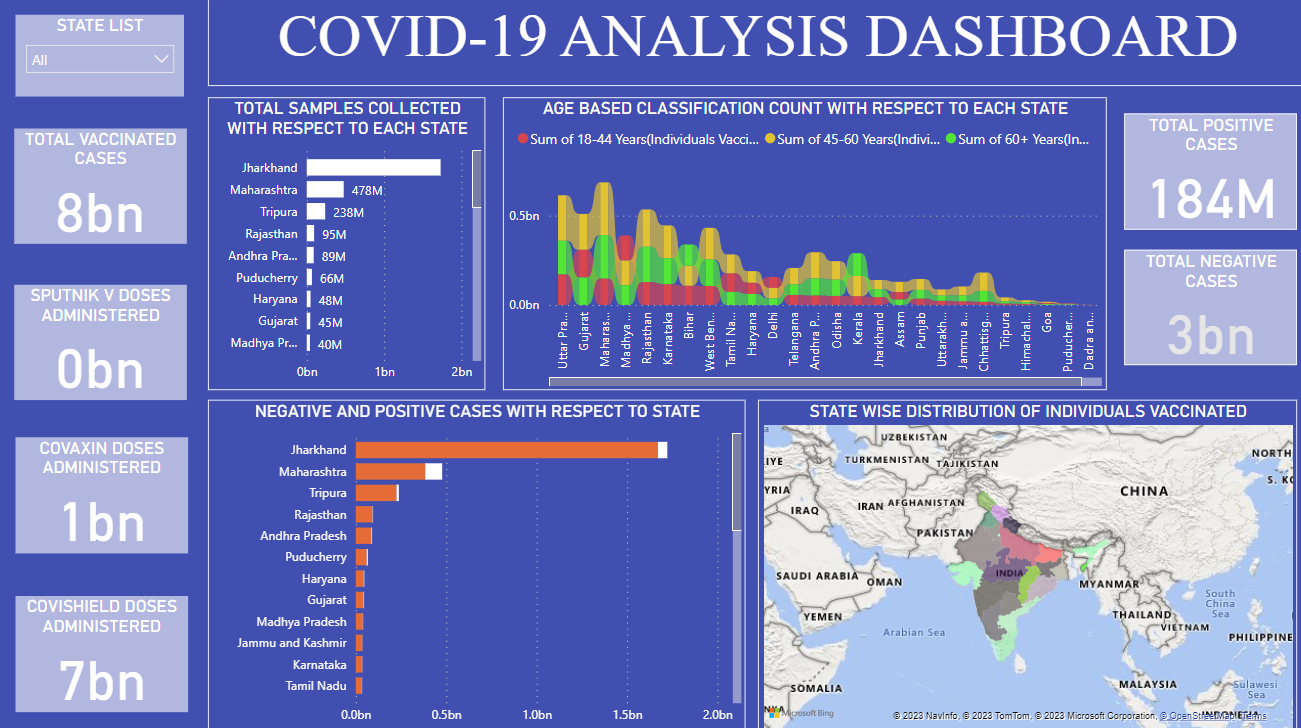

The dashboard page shown, as its layout file describes it:
{"tool":"powerbi","page":{"name":"Page 1","canvas":[1280,720],"ordinal":0},"visuals":[{"type":"shape","box":[0,0,1279.9,720],"z":0},{"type":"textbox","box":[205.4,0,1074.5,88],"z":2000},{"type":"card","title":"TOTAL VACCINATED CASES","fields":{"Values":["Sum(covid_vaccine_statewise.Total Doses Administered)"]},"box":[16.2,130,168.8,112.5],"z":4000},{"type":"slicer","title":"STATE LIST","fields":{"Values":["covid_vaccine_statewise.State"]},"box":[17.5,18.8,165,80],"z":5000},{"type":"filledMap","title":"STATE WISE DISTRIBUTION OF INDIVIDUALS VACCINATED","fields":{"Category":["covid_vaccine_statewise.State"],"Series":["covid_vaccine_statewise.Total Individuals Vaccinated"]},"box":[743.2,394.8,526.9,325.2],"z":6000},{"type":"ribbonChart","title":"AGE BASED CLASSIFICATION COUNT WITH RESPECT TO EACH STATE","fields":{"Category":["covid_vaccine_statewise.State"],"Y":["Sum(covid_vaccine_statewise.18-44 Years(Individuals Vaccinated))","Sum(covid_vaccine_statewise.45-60 Years(Individuals Vaccinated))","Sum(covid_vaccine_statewise.60+ Years(Individuals Vaccinated))"]},"box":[493.8,98.8,590,286.2],"z":7000},{"type":"card","title":"COVISHIELD DOSES ADMINISTERED","fields":{"Values":["Sum(covid_vaccine_statewise.CoviShield (Doses Administered))"]},"box":[17.1,586.8,168.7,113.7],"z":9000},{"type":"card","title":"COVAXIN DOSES ADMINISTERED","fields":{"Values":["Sum(covid_vaccine_statewise. Covaxin (Doses Administered))"]},"box":[17.5,431.2,168.8,113.8],"z":10000},{"type":"card","title":"SPUTNIK V DOSES ADMINISTERED","fields":{"Values":["Sum(covid_vaccine_statewise.Sputnik V (Doses Administered))"]},"box":[16.2,282.5,168.8,112.5],"z":11000},{"type":"barChart","title":"NEGATIVE AND POSITIVE CASES WITH RESPECT TO STATE","fields":{"Category":["StatewiseTestingDetails.State"],"Y":["Sum(StatewiseTestingDetails.Negative)","Sum(StatewiseTestingDetails.Positive)"]},"box":[205.4,394.8,525.6,325.2],"z":12000},{"type":"card","title":"TOTAL POSITIVE CASES","fields":{"Values":["Sum(StatewiseTestingDetails.Positive)"]},"box":[1101.4,114.9,168.7,113.7],"z":13000},{"type":"card","title":"TOTAL NEGATIVE CASES","fields":{"Values":["Sum(StatewiseTestingDetails.Negative)"]},"box":[1101.4,248.1,168.7,112.5],"z":14000},{"type":"barChart","title":"TOTAL SAMPLES COLLECTED WITH RESPECT TO EACH STATE","fields":{"Category":["StatewiseTestingDetails.State"],"Y":["Sum(StatewiseTestingDetails.TotalSamples)"]},"box":[205,98.8,271.2,286.2],"z":15000}]}

Visuals, with their boxes in screenshot pixels (x1, y1, x2, y2), scaled from the page's 1280x720 canvas onto the 1301x728 screenshot:
shape: 0 0 1300 727
textbox: 209 0 1300 89
"TOTAL VACCINATED CASES" card: 16 131 188 245
"STATE LIST" slicer: 18 19 185 100
"STATE WISE DISTRIBUTION OF INDIVIDUALS VACCINATED" filledMap: 755 399 1291 727
"AGE BASED CLASSIFICATION COUNT WITH RESPECT TO EACH STATE" ribbonChart: 502 100 1102 389
"COVISHIELD DOSES ADMINISTERED" card: 17 593 189 708
"COVAXIN DOSES ADMINISTERED" card: 18 436 189 551
"SPUTNIK V DOSES ADMINISTERED" card: 16 286 188 399
"NEGATIVE AND POSITIVE CASES WITH RESPECT TO STATE" barChart: 209 399 743 727
"TOTAL POSITIVE CASES" card: 1119 116 1291 231
"TOTAL NEGATIVE CASES" card: 1119 251 1291 365
"TOTAL SAMPLES COLLECTED WITH RESPECT TO EACH STATE" barChart: 208 100 484 389
